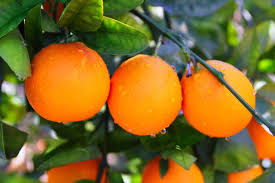orange: (24, 43, 110, 122), (178, 54, 257, 137), (108, 54, 184, 137)
